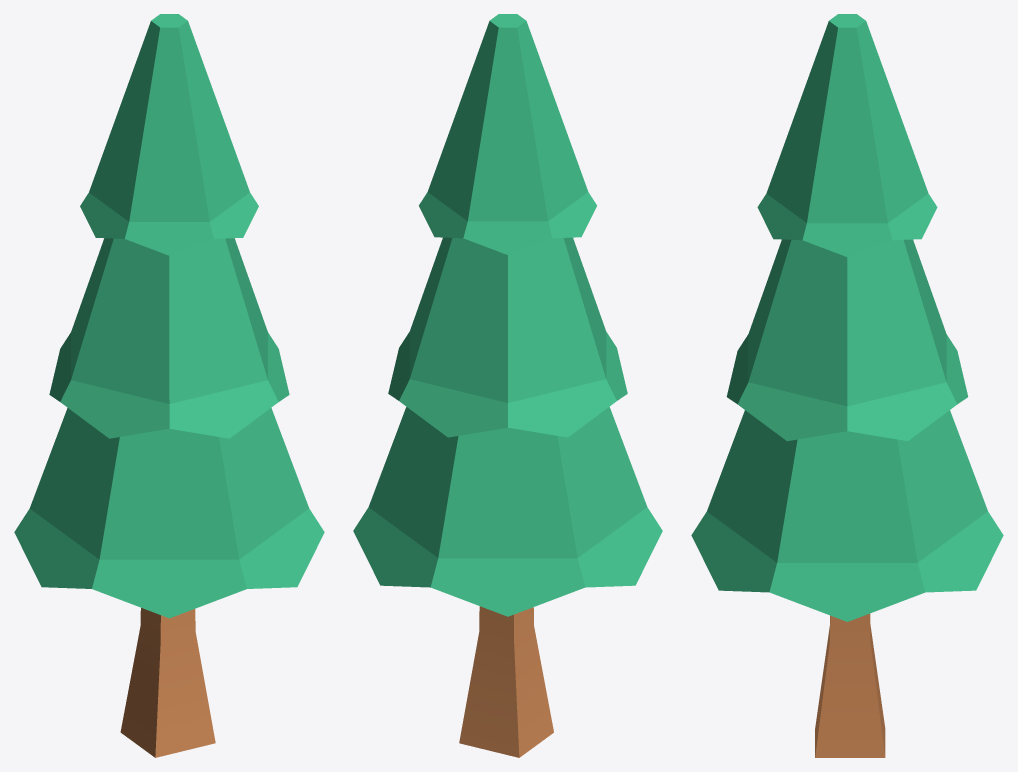
The model's file is tree.dae.
3 views of the same model, side by side, from view 1: azimuth 30°, elevation 25°; view 2: azimuth 150°, elevation 25°; view 3: azimuth 270°, elevation 25° (orthographic).
Parts seen in each view (by area): view 1: tree; view 2: tree; view 3: tree.
Boxes of the visible parts, box(x1,y1,x2,y2) form: tree: box(14, 14, 324, 757); tree: box(353, 14, 662, 757); tree: box(691, 14, 1003, 757).
Bounding box in the file's own units: 2.1 × 5.64 × 2.21.
